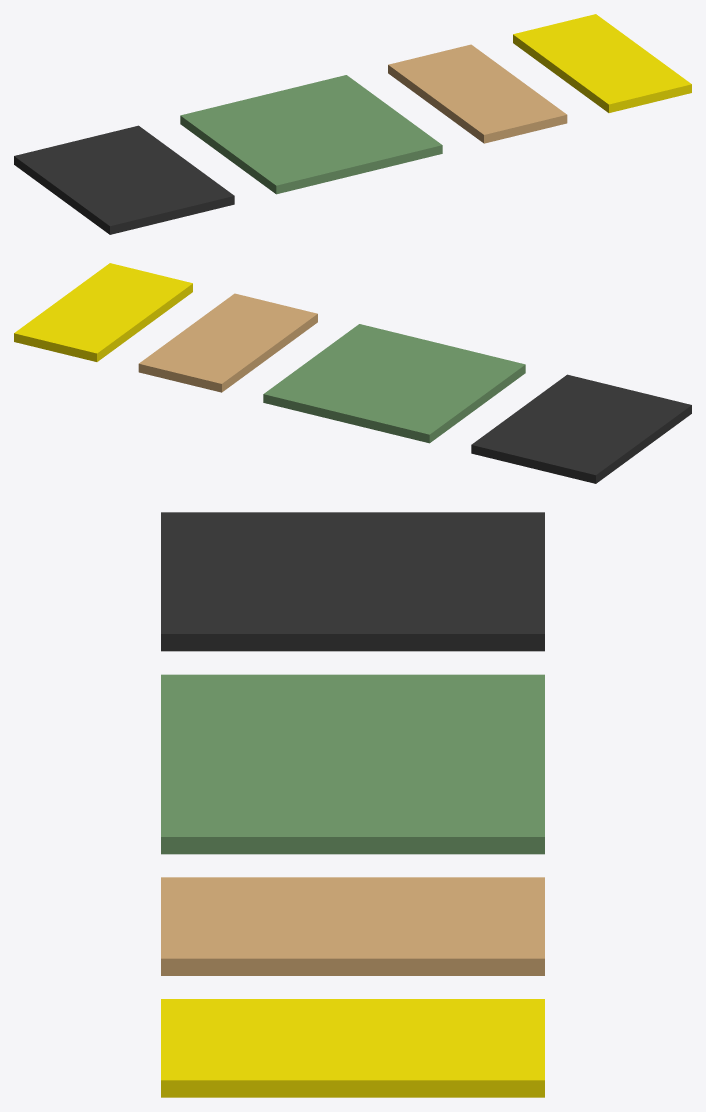
The model's file is board.glb.
3 views of the same model, one above another, from view 1: azimuth 30°, elevation 25°; view 2: azimuth 150°, elevation 25°; view 3: azimuth 270°, elevation 25° (orthographic). The views are drawn at different scales.
Parts seen in each view (by area): view 1: Substrate_Layer_1, Substrate_Layer_0, Substrate_Layer_2, Substrate_Layer_3; view 2: Substrate_Layer_1, Substrate_Layer_0, Substrate_Layer_2, Substrate_Layer_3; view 3: Substrate_Layer_1, Substrate_Layer_0, Substrate_Layer_2, Substrate_Layer_3.
Boxes of the visible parts, x1,y1,x2,y2 form: Substrate_Layer_1: (180, 75, 442, 194); Substrate_Layer_0: (14, 125, 234, 234); Substrate_Layer_2: (388, 44, 567, 143); Substrate_Layer_3: (513, 14, 691, 112); Substrate_Layer_1: (263, 324, 525, 443); Substrate_Layer_0: (471, 374, 691, 483); Substrate_Layer_2: (138, 293, 317, 392); Substrate_Layer_3: (14, 263, 192, 361); Substrate_Layer_1: (161, 674, 544, 854); Substrate_Layer_0: (161, 512, 544, 651); Substrate_Layer_2: (161, 877, 544, 975); Substrate_Layer_3: (161, 999, 544, 1097).
Bounding box in the file's own units: 0.07 × 0.001 × 0.02.
